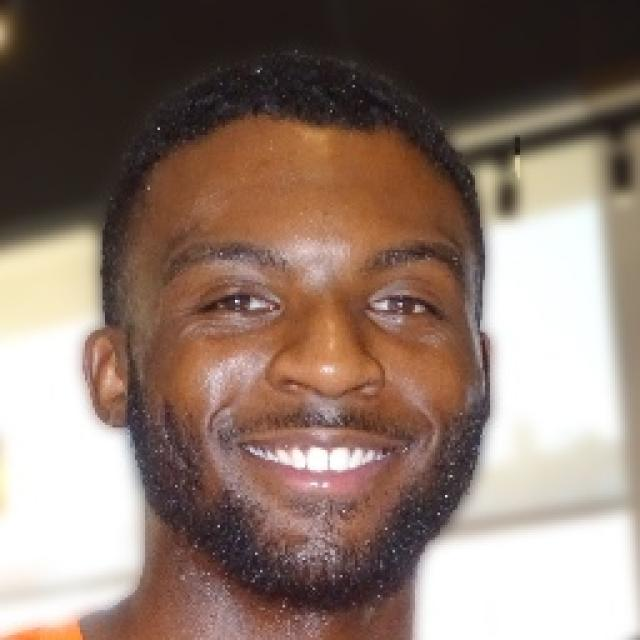earlobe: (100, 402, 133, 431)
eye: (368, 290, 436, 323), (202, 288, 272, 320)
nose: (268, 378, 384, 414)
wholeear: (82, 329, 131, 432), (476, 329, 496, 426)
